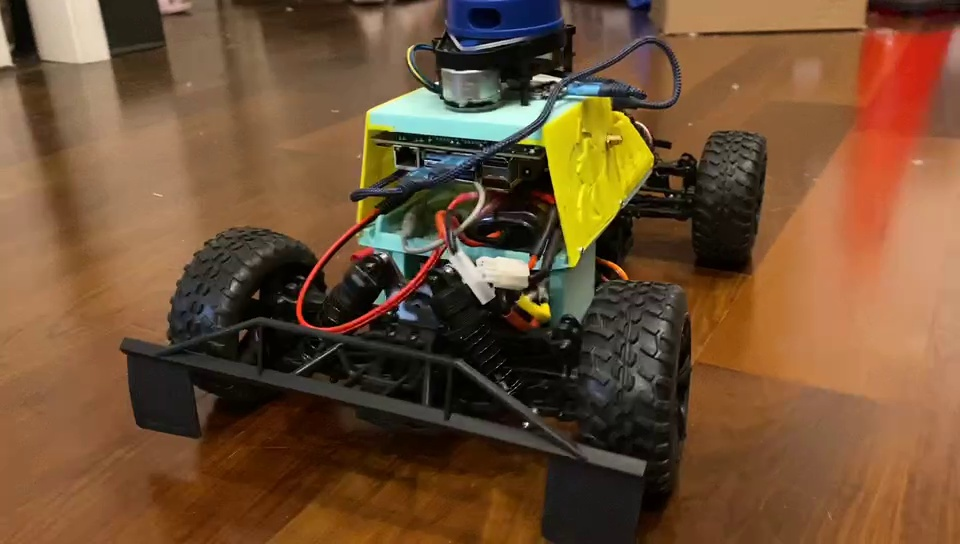mushr_car: (123, 1, 773, 544)
